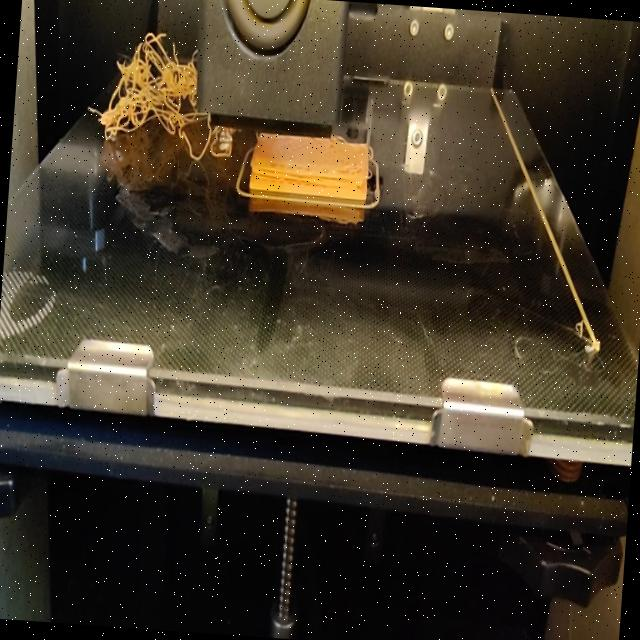spaghetti: (94, 29, 198, 148), (194, 112, 216, 161)
